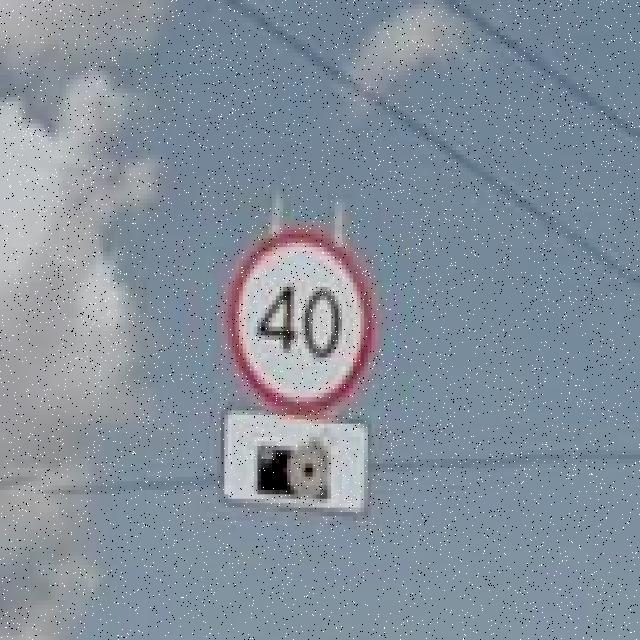Ograniczenie predkosci do 40: (224, 229, 376, 415)
